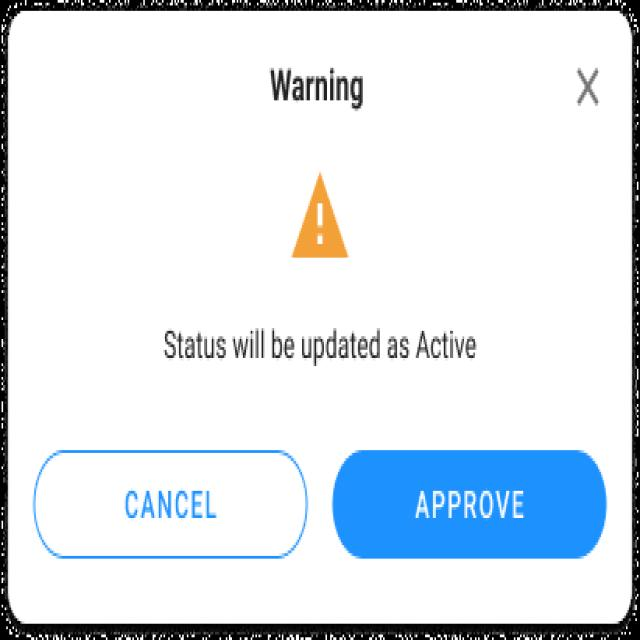QLabel: (156, 324, 475, 366), (266, 66, 366, 110), (412, 484, 526, 521), (121, 484, 221, 520)
VBtn: (32, 450, 310, 560), (332, 452, 610, 561)
VDialog: (8, 6, 632, 625)
VIcon: (280, 163, 355, 275), (574, 64, 602, 110)
